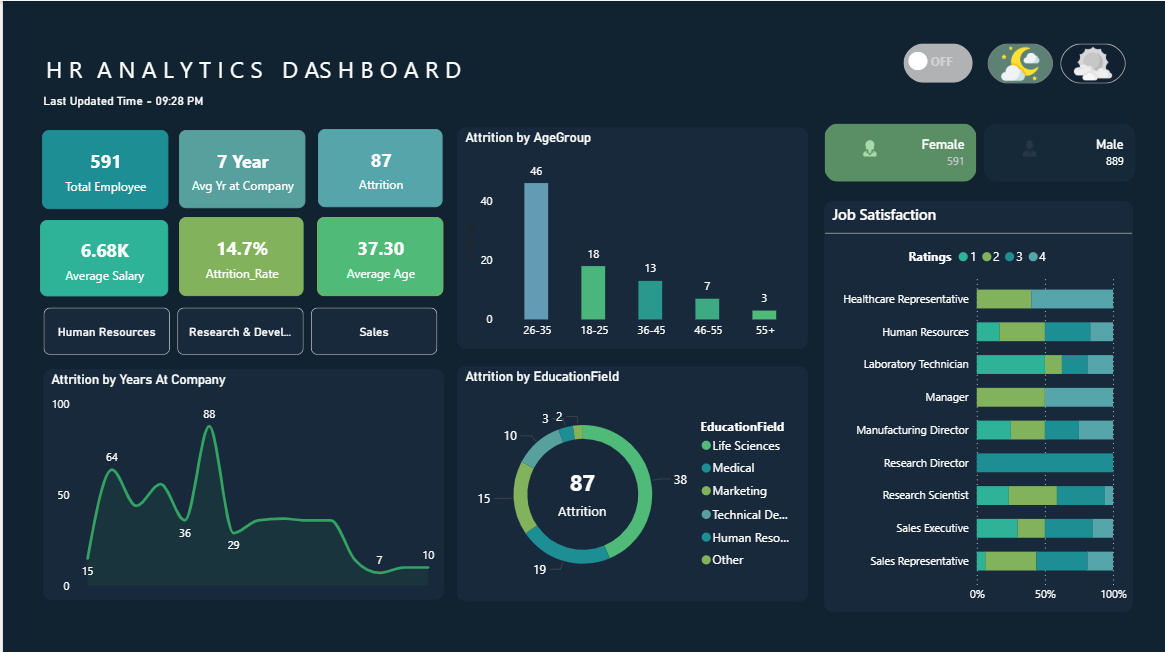

This screenshot's page, from the dashboard's own definition file:
{"tool":"powerbi","page":{"name":"HR Analytics Dashboard ","canvas":[1280,720],"ordinal":0},"visuals":[{"type":"shape","box":[0,0,1280.7,720],"z":0},{"type":"card","fields":{"Values":["Dark_Mode.Btn_on_off"]},"box":[1000.8,46.8,63.2,45.8],"z":0,"group":"g3"},{"type":"shape","box":[46.9,50,64,48.4],"z":0,"group":"g1"},{"type":"cardVisual","fields":{"Data":["Min(Dark_Mode.Male_Icon)"]},"box":[1084.7,132.6,69.1,58.9],"z":0,"group":"g2"},{"type":"advancedSlicerVisual","fields":{"Values":["DarkMode_AutoSet.MODE"]},"box":[985,42.1,86.8,53.7],"z":1000,"group":"g3"},{"type":"shape","box":[103.1,50,242.1,48.4],"z":1000,"group":"g1"},{"type":"cardVisual","fields":{"Data":["Dark_Mode.Female_Icon_Handle"]},"box":[907.9,132.6,71.1,58.9],"z":1000,"group":"g2"},{"type":"advancedSlicerVisual","fields":{"Values":["HR_Analytics.Department"]},"box":[39.6,331.5,445.4,62.7],"z":1000},{"type":"shape","box":[306.2,50,242.1,48.4],"z":2000,"group":"g1"},{"type":"advancedSlicerVisual","fields":{"Values":["HR_Analytics.Gender"]},"box":[898,129.5,353,75],"z":2000,"group":"g2"},{"type":"card","fields":{"Values":["Sum(HR_Analytics.EmployeeCount)"]},"box":[42.9,142.2,138.6,87.4],"z":2000},{"type":"card","fields":{"Values":["Avg(HR_Analytics.Age)"]},"box":[344.7,237.9,138.6,87.4],"z":3000},{"type":"card","fields":{"Values":["Avg(HR_Analytics.MonthlyIncome)"]},"box":[40.6,240.5,140.6,84.3],"z":4000},{"type":"card","fields":{"Values":["HR_Analytics.Ave_Year_At_Company"]},"box":[193,142.2,138.6,85.8],"z":5000},{"type":"card","fields":{"Values":["HR_Analytics.Attrition_Count"]},"box":[346.4,140.6,136.9,85.8],"z":6000},{"type":"card","fields":{"Values":["HR_Analytics.Attrition_Rate"]},"box":[193,237.9,136.9,87.4],"z":7000},{"type":"donutChart","fields":{"Y":["HR_Analytics.Attrition_Count"],"Category":["HR_Analytics.EducationField"]},"box":[499.4,401.5,385.8,259.3],"z":8000},{"type":"clusteredColumnChart","fields":{"Category":["HR_Analytics.AgeGroup"],"Y":["HR_Analytics.Attrition_Count"]},"box":[499.8,139,385.8,243.6],"z":9000},{"type":"card","fields":{"Values":["HR_Analytics.Attrition_Count"]},"box":[584.1,499.8,106.2,82.8],"z":11000},{"type":"hundredPercentStackedBarChart","title":"Job Satisfaction ","fields":{"Category":["HR_Analytics.JobRole"],"Y":["HR_Analytics.Attrition_Count"],"Series":["HR_Analytics.JobSatisfaction"]},"box":[902.3,219.4,339.8,452],"z":12000},{"type":"areaChart","title":"Attrition by Years At Company","fields":{"Category":["HR_Analytics.YearsAtCompany"],"Y":["CountNonNull(HR_Analytics.Attrition)"]},"box":[44.4,404.6,440.5,254.2],"z":13000},{"type":"group","id":"g1","title":"Group 3","box":[46.9,50,501.3,48.4],"z":14000},{"type":"advancedSlicerVisual","fields":{"Values":["Dark_Mode.Label"]},"box":[1077.7,42.2,162.4,54.7],"z":15000},{"type":"group","id":"g2","title":"Group 1","box":[898,129.5,353,75],"z":16000},{"type":"group","id":"g3","title":"Group 4","box":[985,42.1,86.8,53.7],"z":17000},{"type":"card","fields":{"Values":["Dark_Mode.CurrentTimeNow"]},"box":[31.2,92.1,203,37.5],"z":17001}]}

Visuals, with their boxes in screenshot pixels (x1, y1, x2, y2), scaled from the page's 1280x720 canvas onto the 1165x652 screenshot:
shape: bbox=[0, 0, 1164, 651]
card - Dark_Mode.Btn_on_off: bbox=[911, 42, 968, 84]
shape: bbox=[43, 45, 101, 89]
cardVisual - Min(Dark_Mode.Male_Icon): bbox=[987, 120, 1050, 173]
advancedSlicerVisual - DarkMode_AutoSet.MODE: bbox=[897, 38, 976, 87]
shape: bbox=[94, 45, 314, 89]
cardVisual - Dark_Mode.Female_Icon_Handle: bbox=[826, 120, 891, 173]
advancedSlicerVisual - HR_Analytics.Department: bbox=[36, 300, 441, 357]
shape: bbox=[279, 45, 499, 89]
advancedSlicerVisual - HR_Analytics.Gender: bbox=[817, 117, 1139, 185]
card - Sum(HR_Analytics.EmployeeCount): bbox=[39, 129, 165, 208]
card - Avg(HR_Analytics.Age): bbox=[314, 215, 440, 295]
card - Avg(HR_Analytics.MonthlyIncome): bbox=[37, 218, 165, 294]
card - HR_Analytics.Ave_Year_At_Company: bbox=[176, 129, 302, 206]
card - HR_Analytics.Attrition_Count: bbox=[315, 127, 440, 205]
card - HR_Analytics.Attrition_Rate: bbox=[176, 215, 300, 295]
donutChart - HR_Analytics.Attrition_Count x HR_Analytics.EducationField: bbox=[455, 364, 806, 598]
clusteredColumnChart - HR_Analytics.AgeGroup x HR_Analytics.Attrition_Count: bbox=[455, 126, 806, 346]
card - HR_Analytics.Attrition_Count: bbox=[532, 453, 628, 528]
"Job Satisfaction " hundredPercentStackedBarChart: bbox=[821, 199, 1131, 608]
"Attrition by Years At Company" areaChart: bbox=[40, 366, 441, 597]
"Group 3" group: bbox=[43, 45, 499, 89]
advancedSlicerVisual - Dark_Mode.Label: bbox=[981, 38, 1129, 88]
"Group 1" group: bbox=[817, 117, 1139, 185]
"Group 4" group: bbox=[897, 38, 976, 87]
card - Dark_Mode.CurrentTimeNow: bbox=[28, 83, 213, 117]
